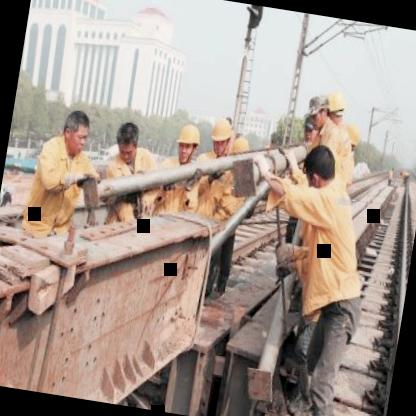head: (51, 100, 97, 160), (298, 137, 342, 197), (106, 116, 146, 171), (303, 90, 332, 136)
helmet: (172, 118, 204, 165), (319, 86, 350, 132), (205, 114, 236, 156)
